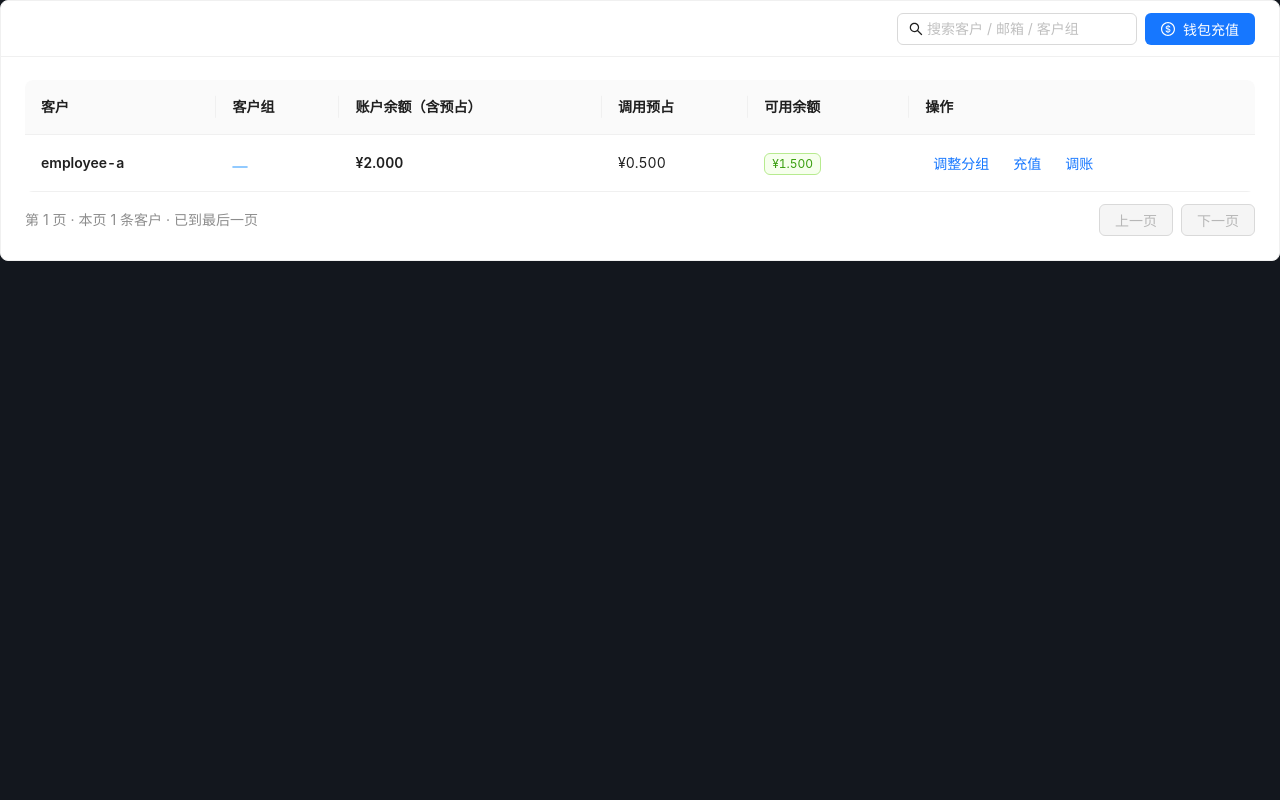
Test: wallet management in metering mode › displays actual wallet balances and recharge without a visibility flag
Expected: the text "employee-a" is shown, [41, 154, 124, 171]
Expected: the text "¥1.500" is shown, [764, 152, 821, 174]
Click the button "钱包充值": (1200, 28) [1145, 12, 1255, 44]
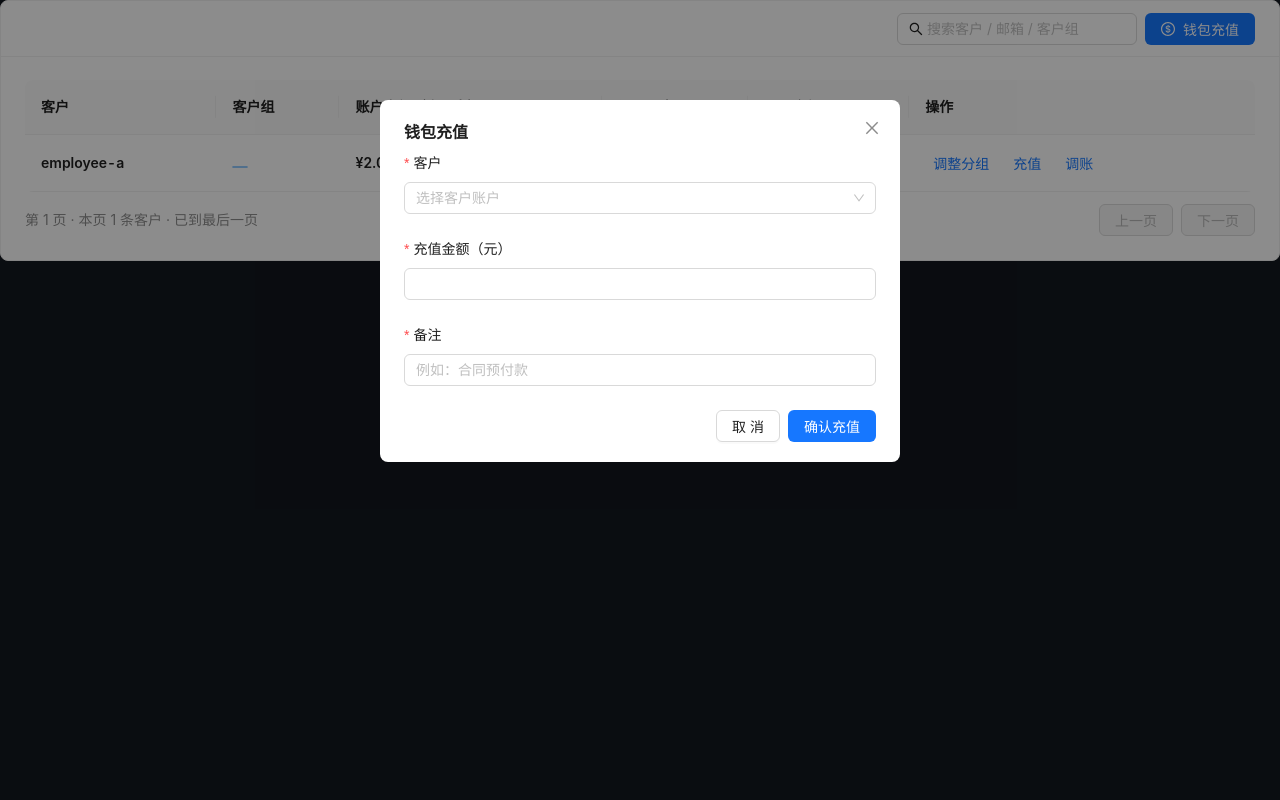
Now the dialog shows "钱包充值", box [404, 122, 468, 142]
